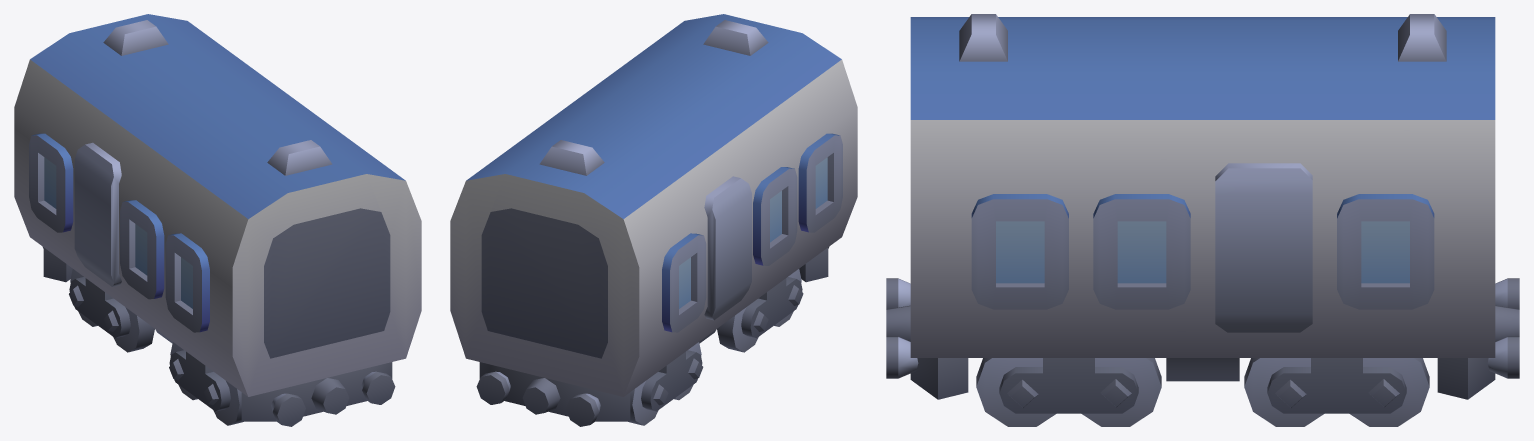
Rendered from train-electric-bullet-b.glb.
The picture shows the model from 3 angles, left to right: view 1: azimuth 30°, elevation 25°; view 2: azimuth 150°, elevation 25°; view 3: azimuth 270°, elevation 25°; orthographic projection. The views are drawn at different scales.
Visible parts, largest first — view 1: train-electric-bullet-b, wheels-back, wheels-front; view 2: train-electric-bullet-b, wheels-front, wheels-back; view 3: train-electric-bullet-b, wheels-back, wheels-front.
Boxes of the visible parts, <box> form: train-electric-bullet-b: <box>14,14,421,426</box>; wheels-back: <box>69,269,154,352</box>; wheels-front: <box>169,342,243,425</box>; train-electric-bullet-b: <box>450,14,857,426</box>; wheels-front: <box>717,269,803,352</box>; wheels-back: <box>628,342,703,425</box>; train-electric-bullet-b: <box>886,14,1519,399</box>; wheels-back: <box>1244,358,1429,426</box>; wheels-front: <box>976,358,1161,426</box>.
Size of the model in its own units: 1.3 by 1.64 by 2.6.
